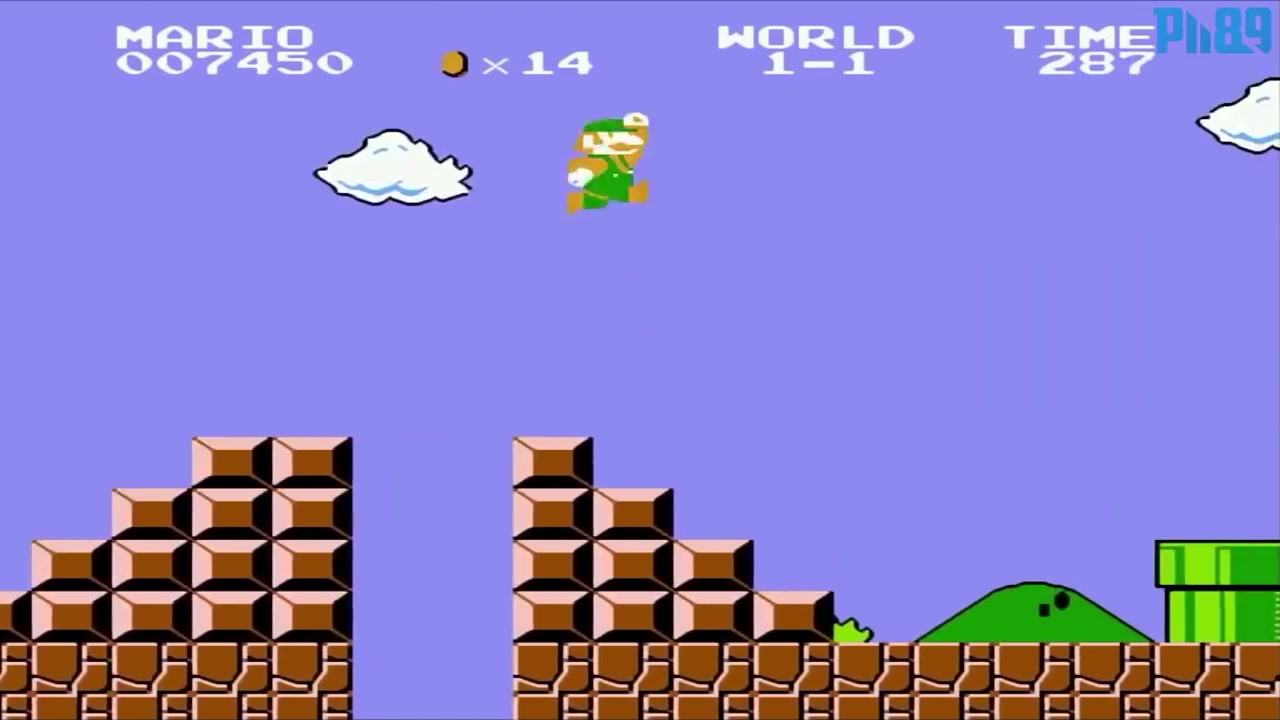mario: (569, 110, 662, 218)
